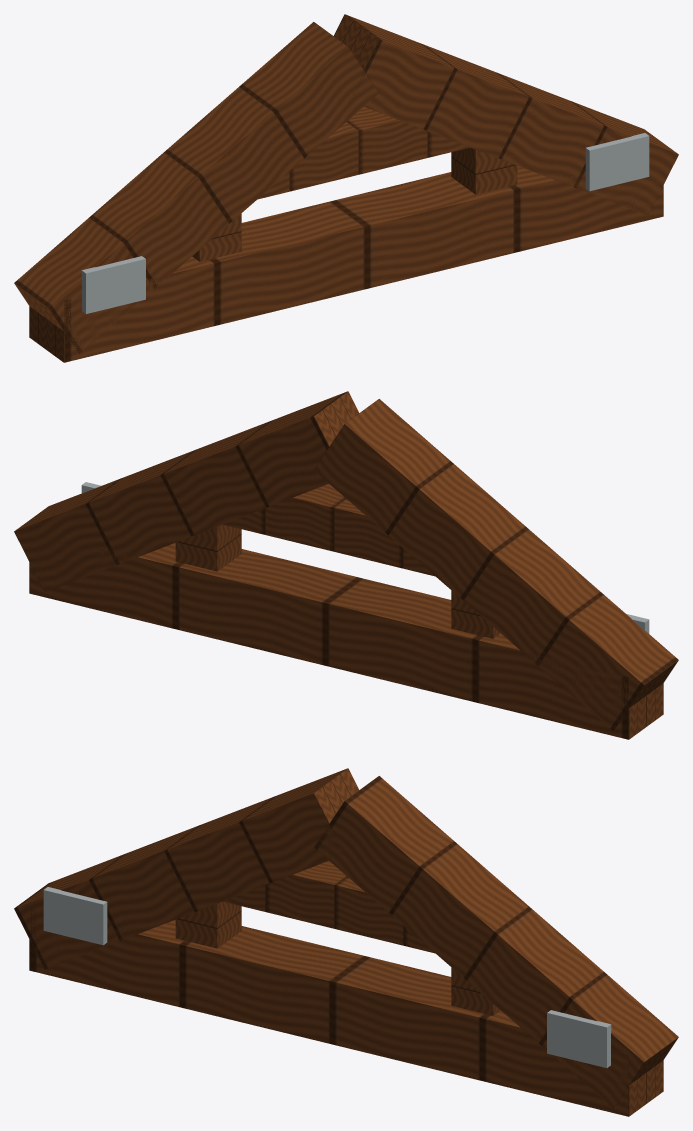
File: roadside-survival-stops-utility-cable-overpass-95b9f605__23581.glb
3 views of the same model, one above another, from view 1: azimuth 30°, elevation 25°; view 2: azimuth 150°, elevation 25°; view 3: azimuth 330°, elevation 25° (orthographic).
Visible parts, largest first — view 1: utility-cable-overpass; view 2: utility-cable-overpass; view 3: utility-cable-overpass.
Boxes of the visible parts, x1,y1,x2,y2 form: utility-cable-overpass: (14, 14, 678, 362); utility-cable-overpass: (14, 391, 678, 739); utility-cable-overpass: (14, 768, 678, 1116).
Size of the model in its own units: 2.1 by 0.7859 by 0.2225.
2 materials, 1 textured.
